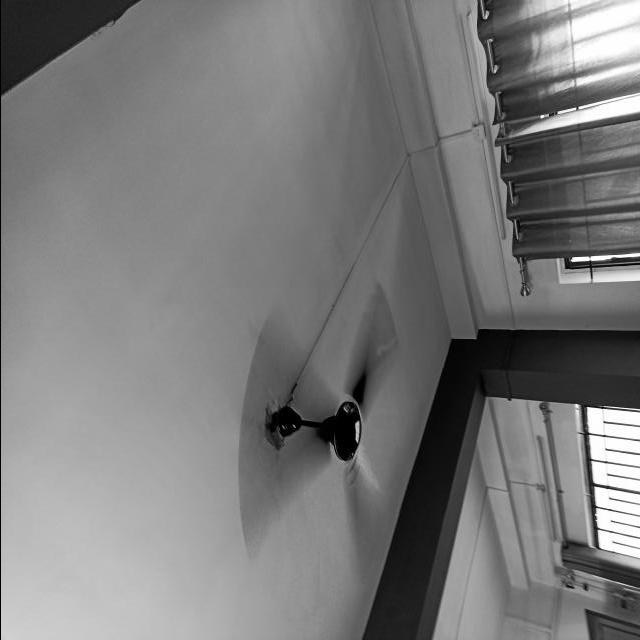fan: (236, 280, 398, 561)
